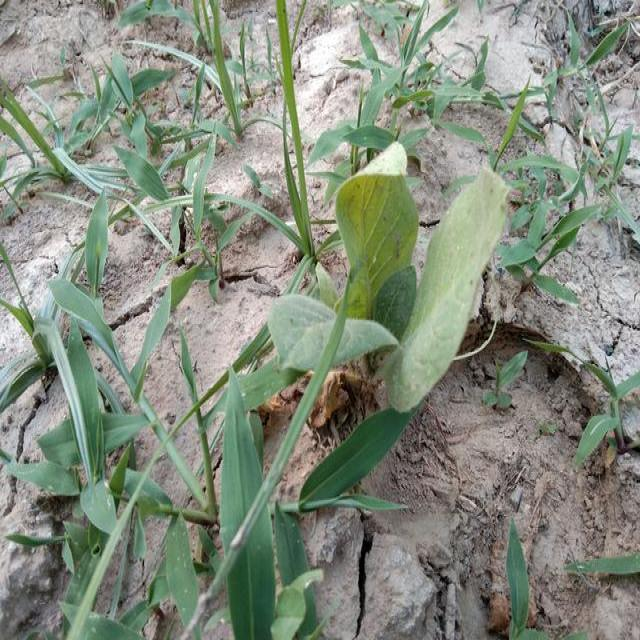crop: (301, 142, 500, 412)
